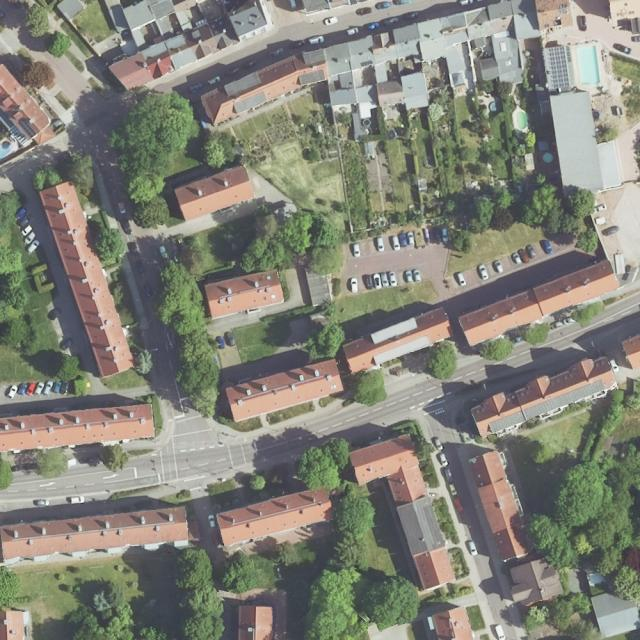PV: (546, 46, 572, 89), (18, 118, 37, 139)
